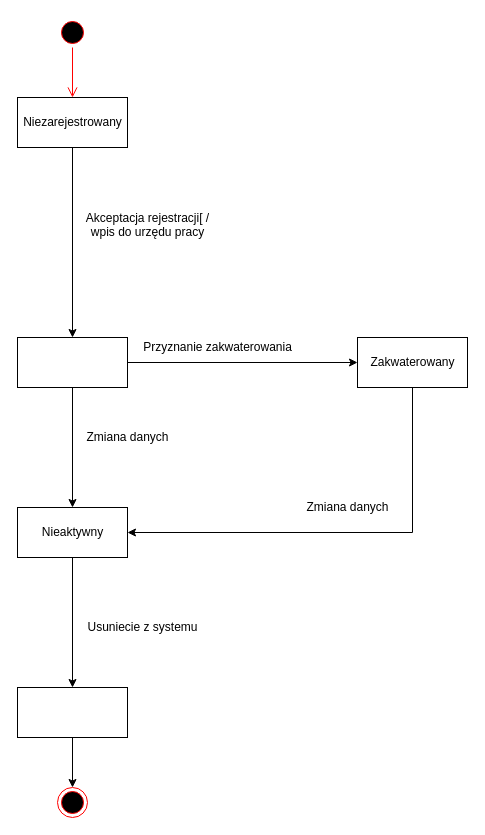
The diagram is 485 pixels wide and 835 high, and some of its shapes have lost their labels. Each missing label, with the centre of its shape:
"Usunięty" goes at point 72,712.
"Zarejestrowany" goes at point 72,362.
